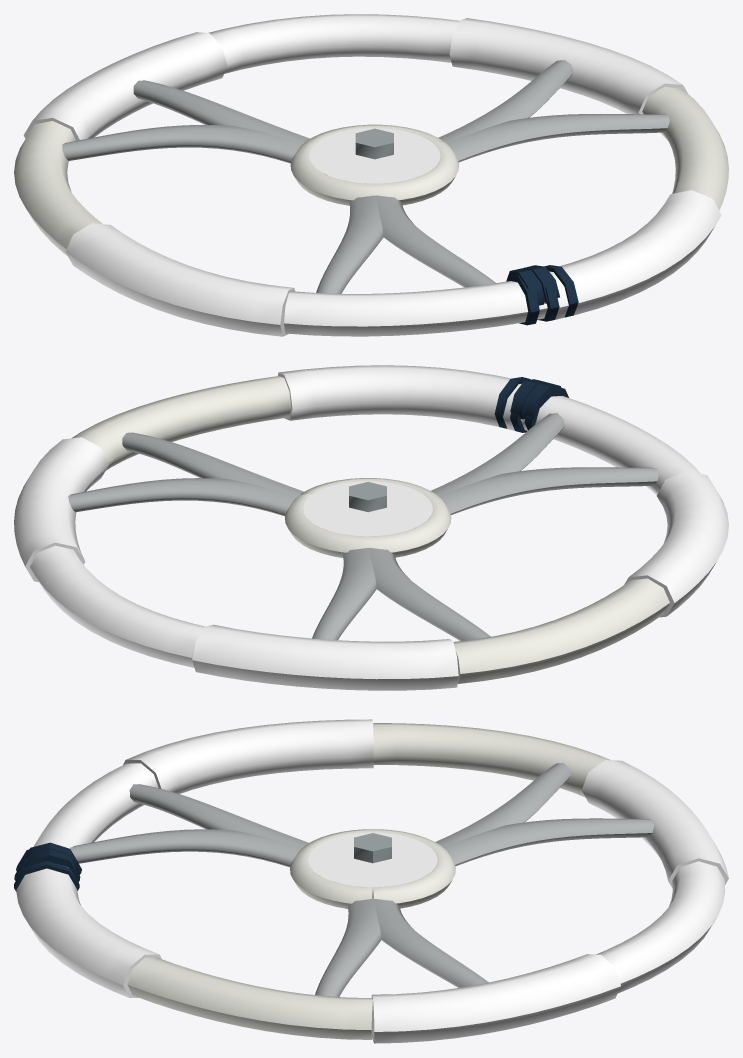
File: Wheel_21_SR_漆朱・白抜き.glb
The picture shows the model from 3 angles, top to bottom: view 1: azimuth 30°, elevation 25°; view 2: azimuth 150°, elevation 25°; view 3: azimuth 270°, elevation 25°; orthographic projection.
Parts seen in each view (by area): view 1: Wheel_21_SR; view 2: Wheel_21_SR; view 3: Wheel_21_SR.
Part boxes in pixels (x1,y1,x2,y2): Wheel_21_SR: (14, 14, 728, 336); Wheel_21_SR: (14, 365, 728, 690); Wheel_21_SR: (14, 719, 728, 1043).
Size of the model in its own units: 0.326 by 0.0299 by 0.3272.
4 materials, 4 textured.
